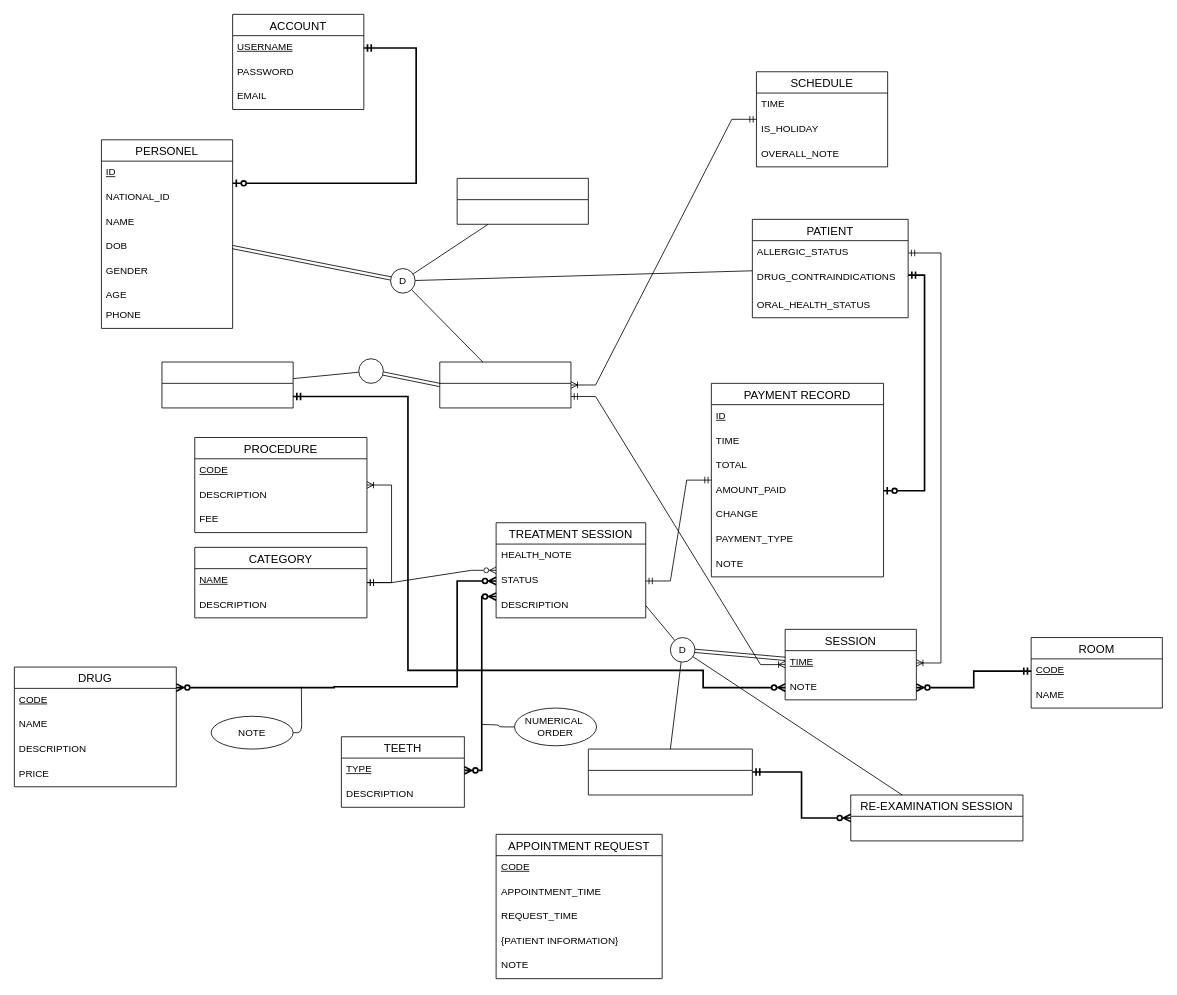
Some shapes in this 1177 by 995 pixel diagram are drawn without their labels. Here are the shapes that lost their labels. From the top down, the centre of each, then its label:
At (522,201): "STAFF".
At (227,384): "ASSISTANT".
At (505,384): "DENTIST".
At (670,771): "EXAMINATION SESSION".
